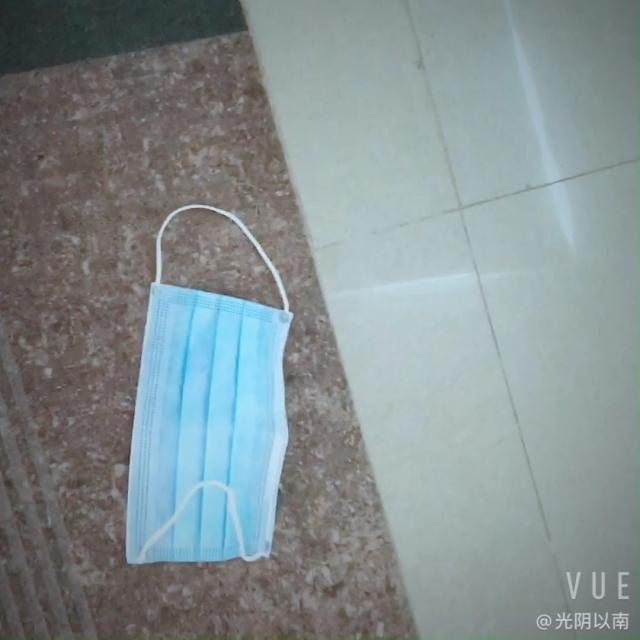face mask: (115, 263, 304, 570)
